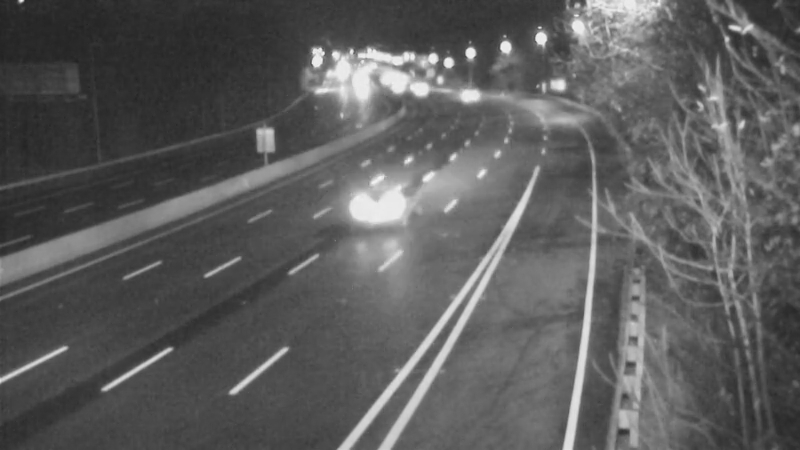vehicle: (335, 170, 415, 250), (395, 65, 445, 115), (438, 70, 488, 120)
